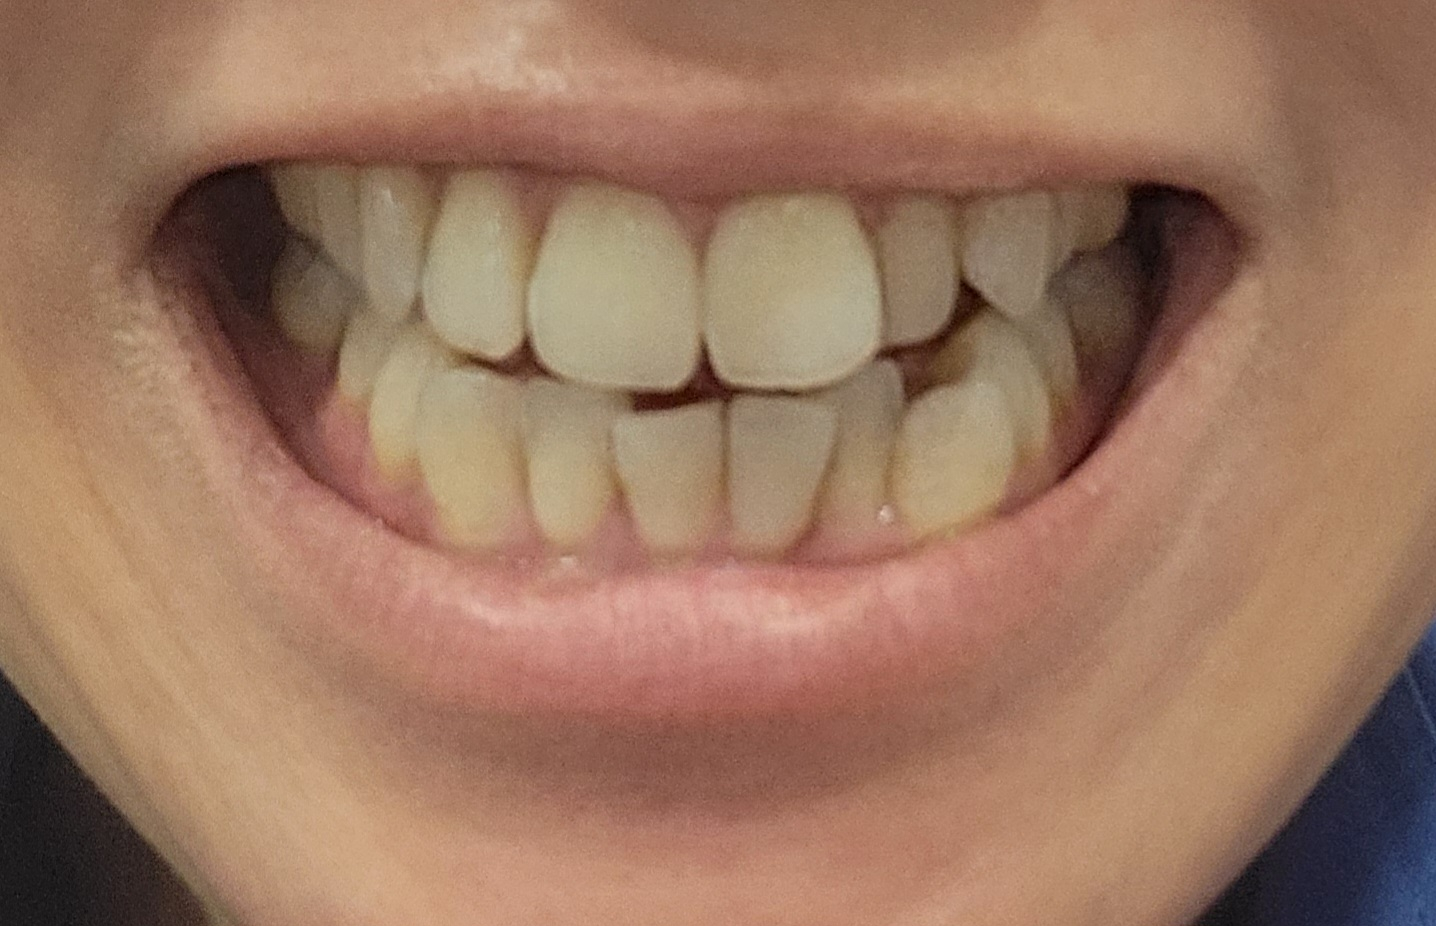teeth: (696, 198, 887, 389), (526, 178, 696, 384), (512, 383, 634, 555), (412, 374, 524, 545), (424, 167, 524, 356), (613, 404, 720, 567), (732, 400, 844, 551), (904, 379, 1010, 526), (940, 316, 1053, 452), (821, 359, 904, 542), (960, 181, 1060, 318), (873, 182, 958, 344), (363, 326, 445, 489), (355, 165, 427, 330), (1067, 252, 1148, 369), (1015, 303, 1080, 425), (272, 249, 345, 346), (341, 304, 399, 416), (319, 162, 358, 293), (1064, 179, 1123, 263), (274, 162, 323, 253)
